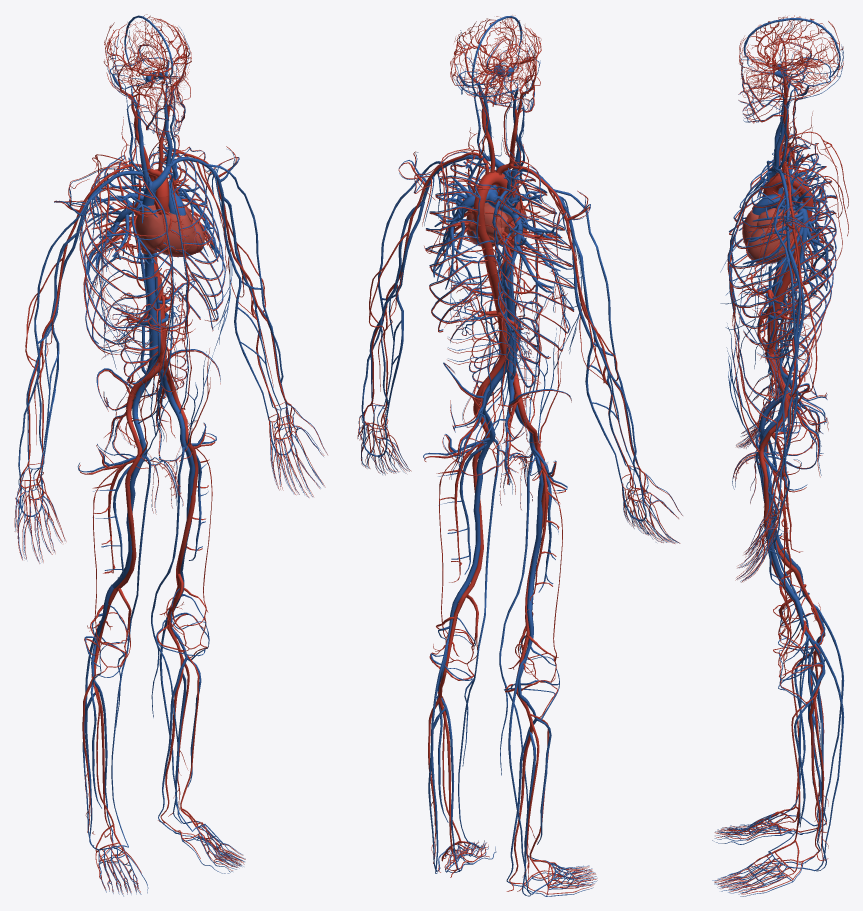
The model's file is cardiovascular.glb.
3 views of the same model, side by side, from view 1: azimuth 30°, elevation 25°; view 2: azimuth 150°, elevation 25°; view 3: azimuth 270°, elevation 25° (orthographic). The views are drawn at different scales.
Visible parts, largest first — view 1: Right superior intercostal vein.001, Posterior intercostal arteries.r.001, Left superior intercostal vein.001, Great saphenous vein.l.001, Right atrium.001, Right ventricle.001, Great saphenous vein.r.001, Posterior intercostal arteries.l.001, Femoral artery.r.001, Cephalic vein.r.001, Femoral artery.l.001, Femoral vein.r.001 (+2 smaller); view 2: Posterior intercostal arteries.r.001, Right superior intercostal vein.001, Left superior intercostal vein.001, Posterior intercostal arteries.l.001, Great saphenous vein.l.001, Great saphenous vein.r.001, Femoral vein.l.001, Femoral vein.r.001, Cephalic vein.r.001, Thoracic aorta.001, Basilic vein.r.001, Basilic vein.l.001 (+2 smaller); view 3: Left superior intercostal vein.001, Posterior intercostal arteries.l.001, Cephalic vein.l.001, Right superior intercostal vein.001, Left ventricle.001, Small saphenous vein.l.001, Great saphenous vein.r.001, Femoral artery.l.001, Small saphenous vein.r.001, Abdominal aorta.001, Great saphenous vein.l.001, Posterior intercostal arteries.r.001 (+23 smaller).
Boxes of the visible parts, left/top/right/bottom form: Right superior intercostal vein.001: left=81, top=155, right=171, bottom=351; Posterior intercostal arteries.r.001: left=79, top=163, right=169, bottom=354; Left superior intercostal vein.001: left=144, top=147, right=225, bottom=329; Great saphenous vein.l.001: left=151, top=446, right=192, bottom=831; Right atrium.001: left=135, top=204, right=170, bottom=254; Right ventricle.001: left=155, top=211, right=197, bottom=256; Great saphenous vein.r.001: left=111, top=456, right=151, bottom=846; Posterior intercostal arteries.l.001: left=149, top=153, right=225, bottom=331; Femoral artery.r.001: left=115, top=431, right=142, bottom=590; Cephalic vein.r.001: left=18, top=187, right=101, bottom=488; Femoral artery.l.001: left=176, top=419, right=198, bottom=574; Femoral vein.r.001: left=112, top=438, right=147, bottom=588; Posterior intercostal arteries.r.001: left=478, top=188, right=574, bottom=358; Right superior intercostal vein.001: left=493, top=170, right=574, bottom=357; Left superior intercostal vein.001: left=425, top=156, right=502, bottom=330; Posterior intercostal arteries.l.001: left=425, top=177, right=501, bottom=332; Great saphenous vein.l.001: left=458, top=439, right=499, bottom=845; Great saphenous vein.r.001: left=499, top=451, right=538, bottom=859; Femoral vein.l.001: left=459, top=423, right=495, bottom=594; Femoral vein.r.001: left=527, top=435, right=543, bottom=610; Cephalic vein.r.001: left=554, top=189, right=643, bottom=496; Thoracic aorta.001: left=473, top=197, right=496, bottom=275; Basilic vein.r.001: left=572, top=238, right=622, bottom=483; Basilic vein.l.001: left=384, top=202, right=424, bottom=426; Left superior intercostal vein.001: left=729, top=163, right=836, bottom=358; Posterior intercostal arteries.l.001: left=729, top=175, right=836, bottom=359; Cephalic vein.l.001: left=774, top=197, right=796, bottom=518; Right superior intercostal vein.001: left=729, top=144, right=836, bottom=304; Left ventricle.001: left=747, top=223, right=794, bottom=263; Small saphenous vein.l.001: left=803, top=640, right=844, bottom=871; Great saphenous vein.r.001: left=755, top=432, right=820, bottom=820; Femoral artery.l.001: left=759, top=431, right=793, bottom=601; Small saphenous vein.r.001: left=803, top=604, right=844, bottom=826; Abdominal aorta.001: left=765, top=266, right=793, bottom=354; Great saphenous vein.l.001: left=755, top=452, right=820, bottom=851; Posterior intercostal arteries.r.001: left=729, top=153, right=836, bottom=308.
Size of the model in its own units: 0.6638 by 1.7 by 0.249.
